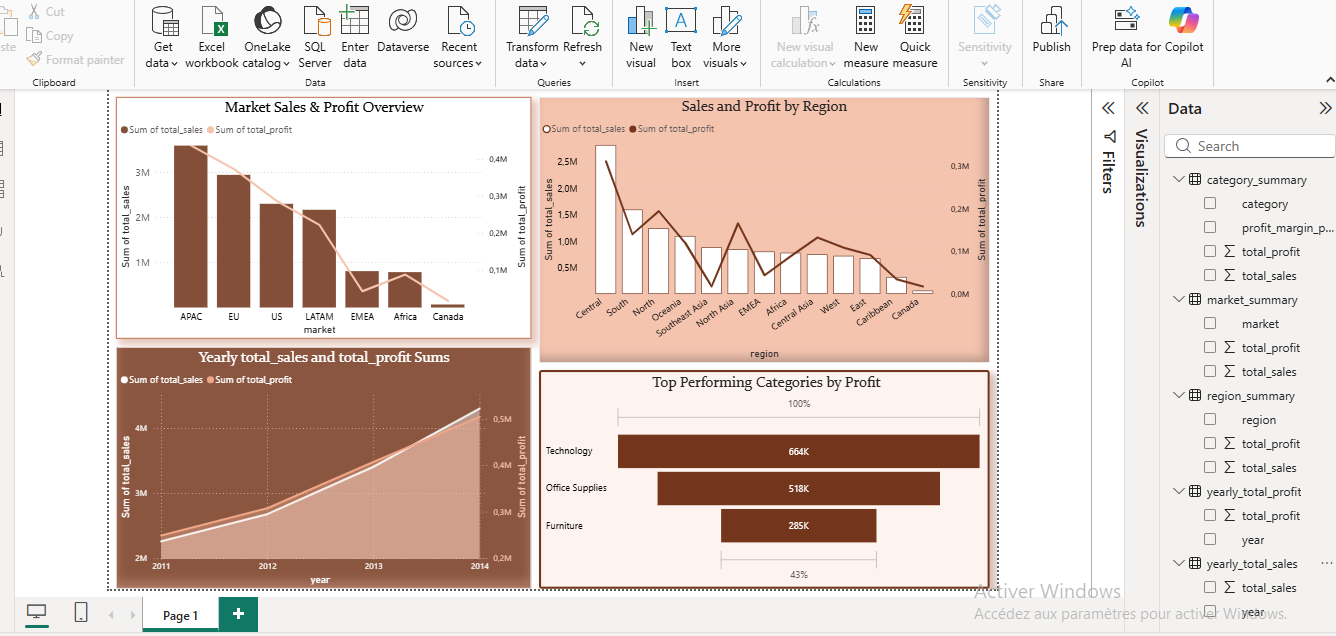

The dashboard page shown, as its layout file describes it:
{"tool":"powerbi","page":{"name":"Page 1","canvas":[1280,720],"ordinal":0},"visuals":[{"type":"lineClusteredColumnComboChart","title":"Market Sales & Profit Overview","fields":{"Category":["market_summary.market"],"Y2":["Sum(market_summary.total_profit)"],"Y":["Sum(market_summary.total_sales)"]},"box":[10.1,11.5,597.6,348.5],"z":0},{"type":"lineClusteredColumnComboChart","title":"Sales and Profit by Region","fields":{"Y":["Sum(region_summary.total_sales)"],"Category":["region_summary.region"],"Y2":["Sum(region_summary.total_profit)"]},"box":[619.2,11.5,649.4,383],"z":1000},{"type":"areaChart","title":" Yearly total_sales and  total_profit  Sums ","fields":{"Category":["yearly_total_sales.year"],"Y":["Sum(yearly_total_sales.total_sales)"],"Y2":["Sum(yearly_total_profit.total_profit)"]},"box":[10.1,371.5,597.6,348.5],"z":2000},{"type":"funnel","title":"Top Performing Categories by Profit","fields":{"Category":["category_summary.category"],"Y":["Sum(category_summary.total_profit)"]},"box":[619.2,404.6,649.4,315.4],"z":3000}]}

Visuals, with their boxes on the page's 1280x720 design canvas (x1, y1, x2, y2). These are canvas units, not pixel positions in the 1336x636 screenshot, which may show the page scaled, cropped or inside an application window:
"Market Sales & Profit Overview" lineClusteredColumnComboChart: [10,12,608,360]
"Sales and Profit by Region" lineClusteredColumnComboChart: [619,12,1269,394]
" Yearly total_sales and  total_profit  Sums " areaChart: [10,372,608,720]
"Top Performing Categories by Profit" funnel: [619,405,1269,720]
